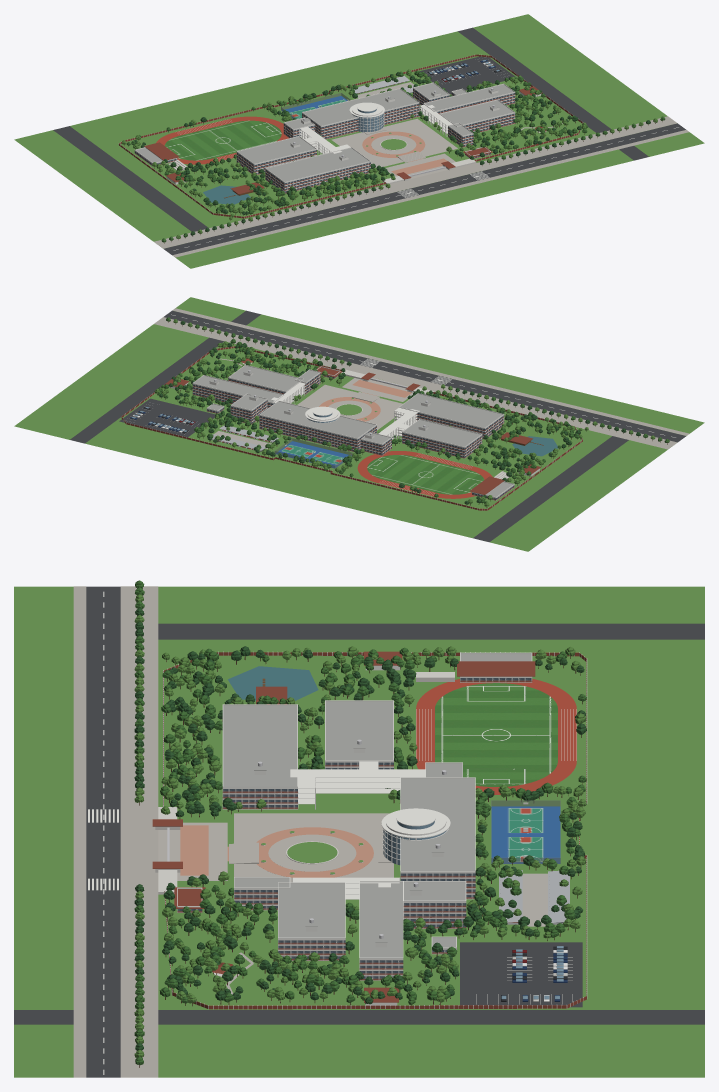
File: reality-highschool.glb
3 views of the same model, one above another, from view 1: azimuth 30°, elevation 25°; view 2: azimuth 150°, elevation 25°; view 3: azimuth 270°, elevation 25° (orthographic). The views are drawn at different scales.
Visible parts, largest first — view 1: plane, plane.001, plane.002, R07_field, plane.004, plane.005, plane.003, plane.006, plane.013, box.105, box.080, R03_main (+13 smaller); view 2: plane, plane.001, plane.002, R07_field, plane.004, plane.005, plane.003, plane.013, box.105, box.080, R07_track, R03_main (+13 smaller); view 3: plane, plane.001, plane.002, R07_field, plane.005, plane.004, plane.003, plane.013, box.105, box.080, plane.006, R07_track (+22 smaller).
Boxes of the visible parts, x1=… form: plane: x1=14, y1=14, x2=704, y2=268; plane.001: x1=164, y1=123, x2=685, y2=255; plane.002: x1=154, y1=116, x2=677, y2=248; R07_field: x1=164, y1=120, x2=281, y2=160; plane.004: x1=458, y1=27, x2=648, y2=160; plane.005: x1=53, y1=126, x2=208, y2=231; plane.003: x1=172, y1=130, x2=689, y2=257; plane.006: x1=331, y1=118, x2=457, y2=167; plane.013: x1=419, y1=55, x2=516, y2=94; box.105: x1=267, y1=148, x2=369, y2=181; box.080: x1=303, y1=89, x2=417, y2=125; R03_main: x1=302, y1=103, x2=419, y2=139; plane: x1=14, y1=297, x2=704, y2=551; plane.001: x1=164, y1=310, x2=685, y2=442; plane.002: x1=154, y1=317, x2=677, y2=449; R07_field: x1=367, y1=455, x2=484, y2=494; plane.004: x1=70, y1=310, x2=260, y2=443; plane.005: x1=473, y1=436, x2=628, y2=542; plane.003: x1=172, y1=308, x2=689, y2=435; plane.013: x1=119, y1=398, x2=215, y2=437; box.105: x1=400, y1=394, x2=502, y2=427; box.080: x1=261, y1=401, x2=375, y2=438; R07_track: x1=357, y1=451, x2=492, y2=498; R03_main: x1=259, y1=415, x2=376, y2=451; plane: x1=14, y1=586, x2=704, y2=1077; plane.001: x1=86, y1=586, x2=120, y2=1077; plane.002: x1=120, y1=586, x2=158, y2=1077; R07_field: x1=435, y1=683, x2=557, y2=786; plane.005: x1=158, y1=623, x2=704, y2=639; plane.004: x1=14, y1=1010, x2=704, y2=1024; plane.003: x1=73, y1=586, x2=86, y2=1077; plane.013: x1=460, y1=942, x2=582, y2=1007; box.105: x1=223, y1=706, x2=297, y2=786; box.080: x1=401, y1=779, x2=474, y2=870; plane.006: x1=234, y1=813, x2=393, y2=882; R07_track: x1=416, y1=679, x2=576, y2=794.
Size of the model in its own units: 712 by 24.4 by 424.
53 materials, 3 textured.
